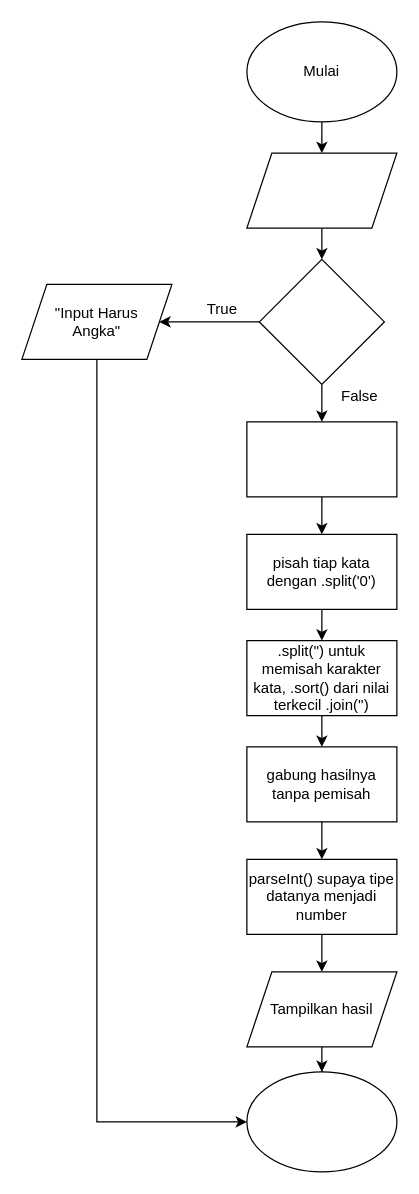
Image size: 419x1194. Some labels were removed from this diagram. The shapes that lost their labels are listed below. From the top down, each one's centre as x and y in pixels, then its label:
point (321, 190): input angka
point (321, 321): typeof input !=='number'
point (321, 459): ubah input menjadi string dengan .toString()
point (321, 1121): Selesai
